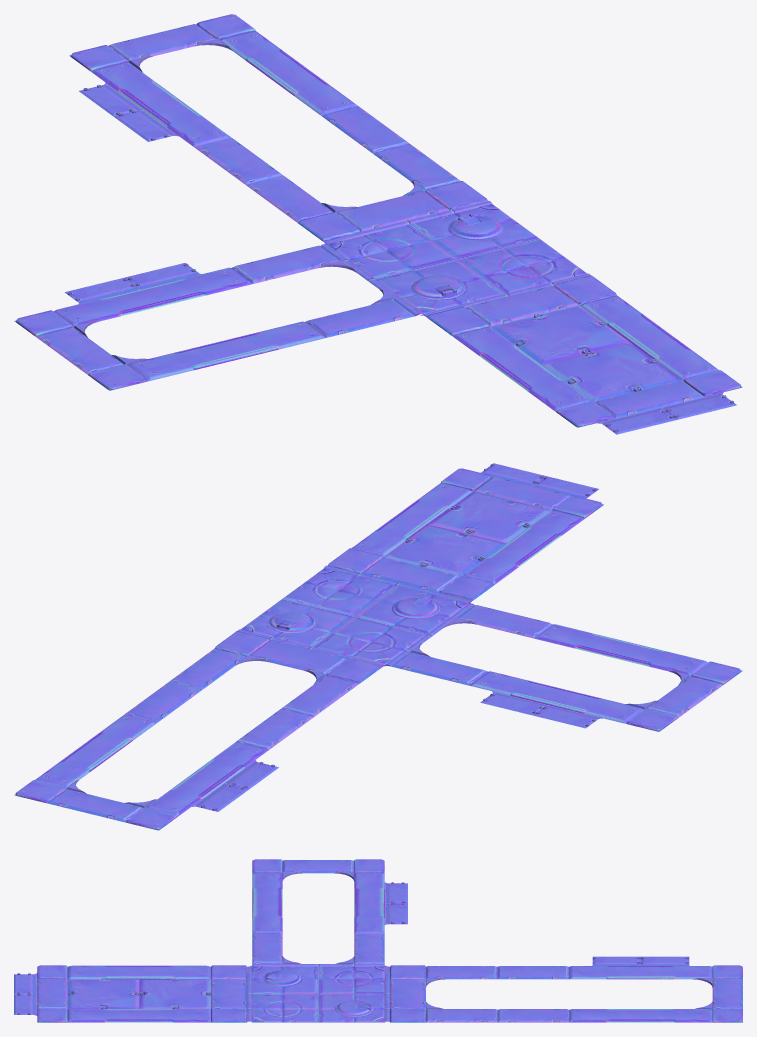
The model's file is Building_A_Room_E_Floor_A.fbx.
3 renders of one model, top to bottom at view 1: azimuth 30°, elevation 25°; view 2: azimuth 150°, elevation 25°; view 3: azimuth 270°, elevation 25°, orthographic. The views are drawn at different scales.
Parts seen in each view (by area): view 1: Geom_Building_A_Room_E_Floor_A_LOD00; view 2: Geom_Building_A_Room_E_Floor_A_LOD00; view 3: Geom_Building_A_Room_E_Floor_A_LOD00.
Boxes of the visible parts, x1=… form: Geom_Building_A_Room_E_Floor_A_LOD00: x1=14, y1=14, x2=742, y2=434; Geom_Building_A_Room_E_Floor_A_LOD00: x1=14, y1=463, x2=742, y2=830; Geom_Building_A_Room_E_Floor_A_LOD00: x1=14, y1=859, x2=742, y2=1022.
Size of what is drawn, in the model's own units: 2140 by 29.6 by 4070.
